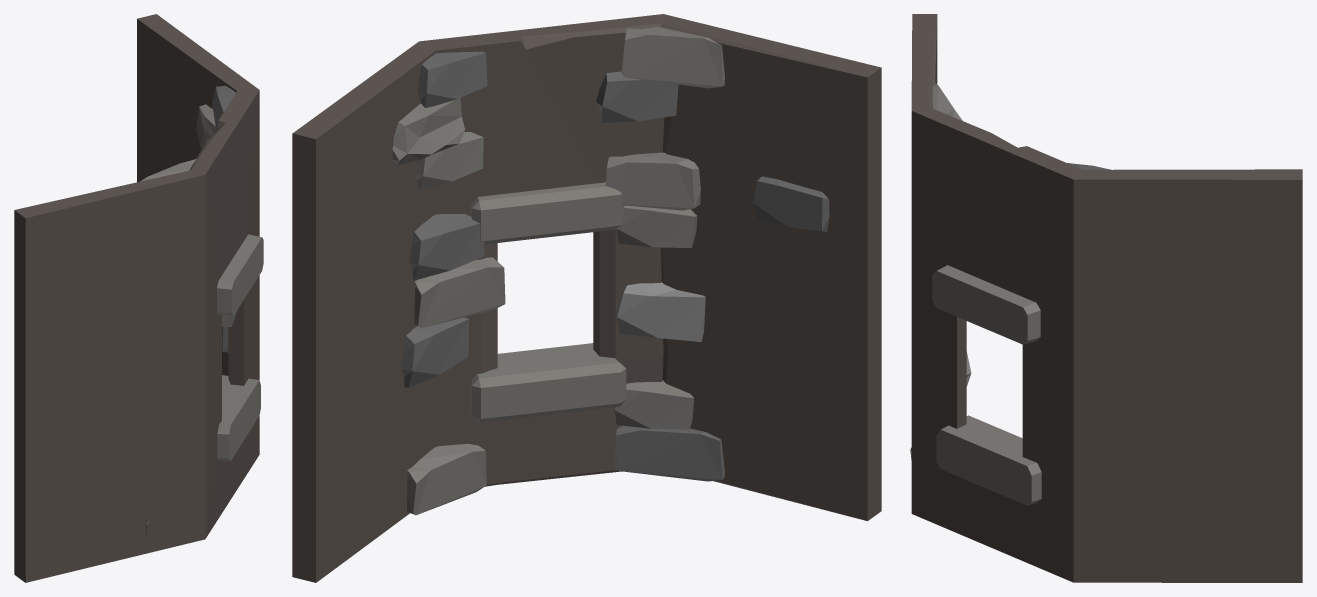
File: MCastle_OctWall_Int_03.FBX
3 renders of one model, left to right at view 1: azimuth 30°, elevation 25°; view 2: azimuth 150°, elevation 25°; view 3: azimuth 270°, elevation 25°, orthographic. The views are drawn at different scales.
Visible parts, largest first — view 1: MCastle_OctWall_Int_03_LOD0; view 2: MCastle_OctWall_Int_03_LOD0; view 3: MCastle_OctWall_Int_03_LOD0.
Boxes of the visible parts, bbox=[...] form: MCastle_OctWall_Int_03_LOD0: bbox=[14, 14, 263, 582]; MCastle_OctWall_Int_03_LOD0: bbox=[292, 14, 881, 582]; MCastle_OctWall_Int_03_LOD0: bbox=[910, 14, 1302, 582].
Size of what is drawn, in the model's own units: 3.94 by 4.46 by 3.94.
